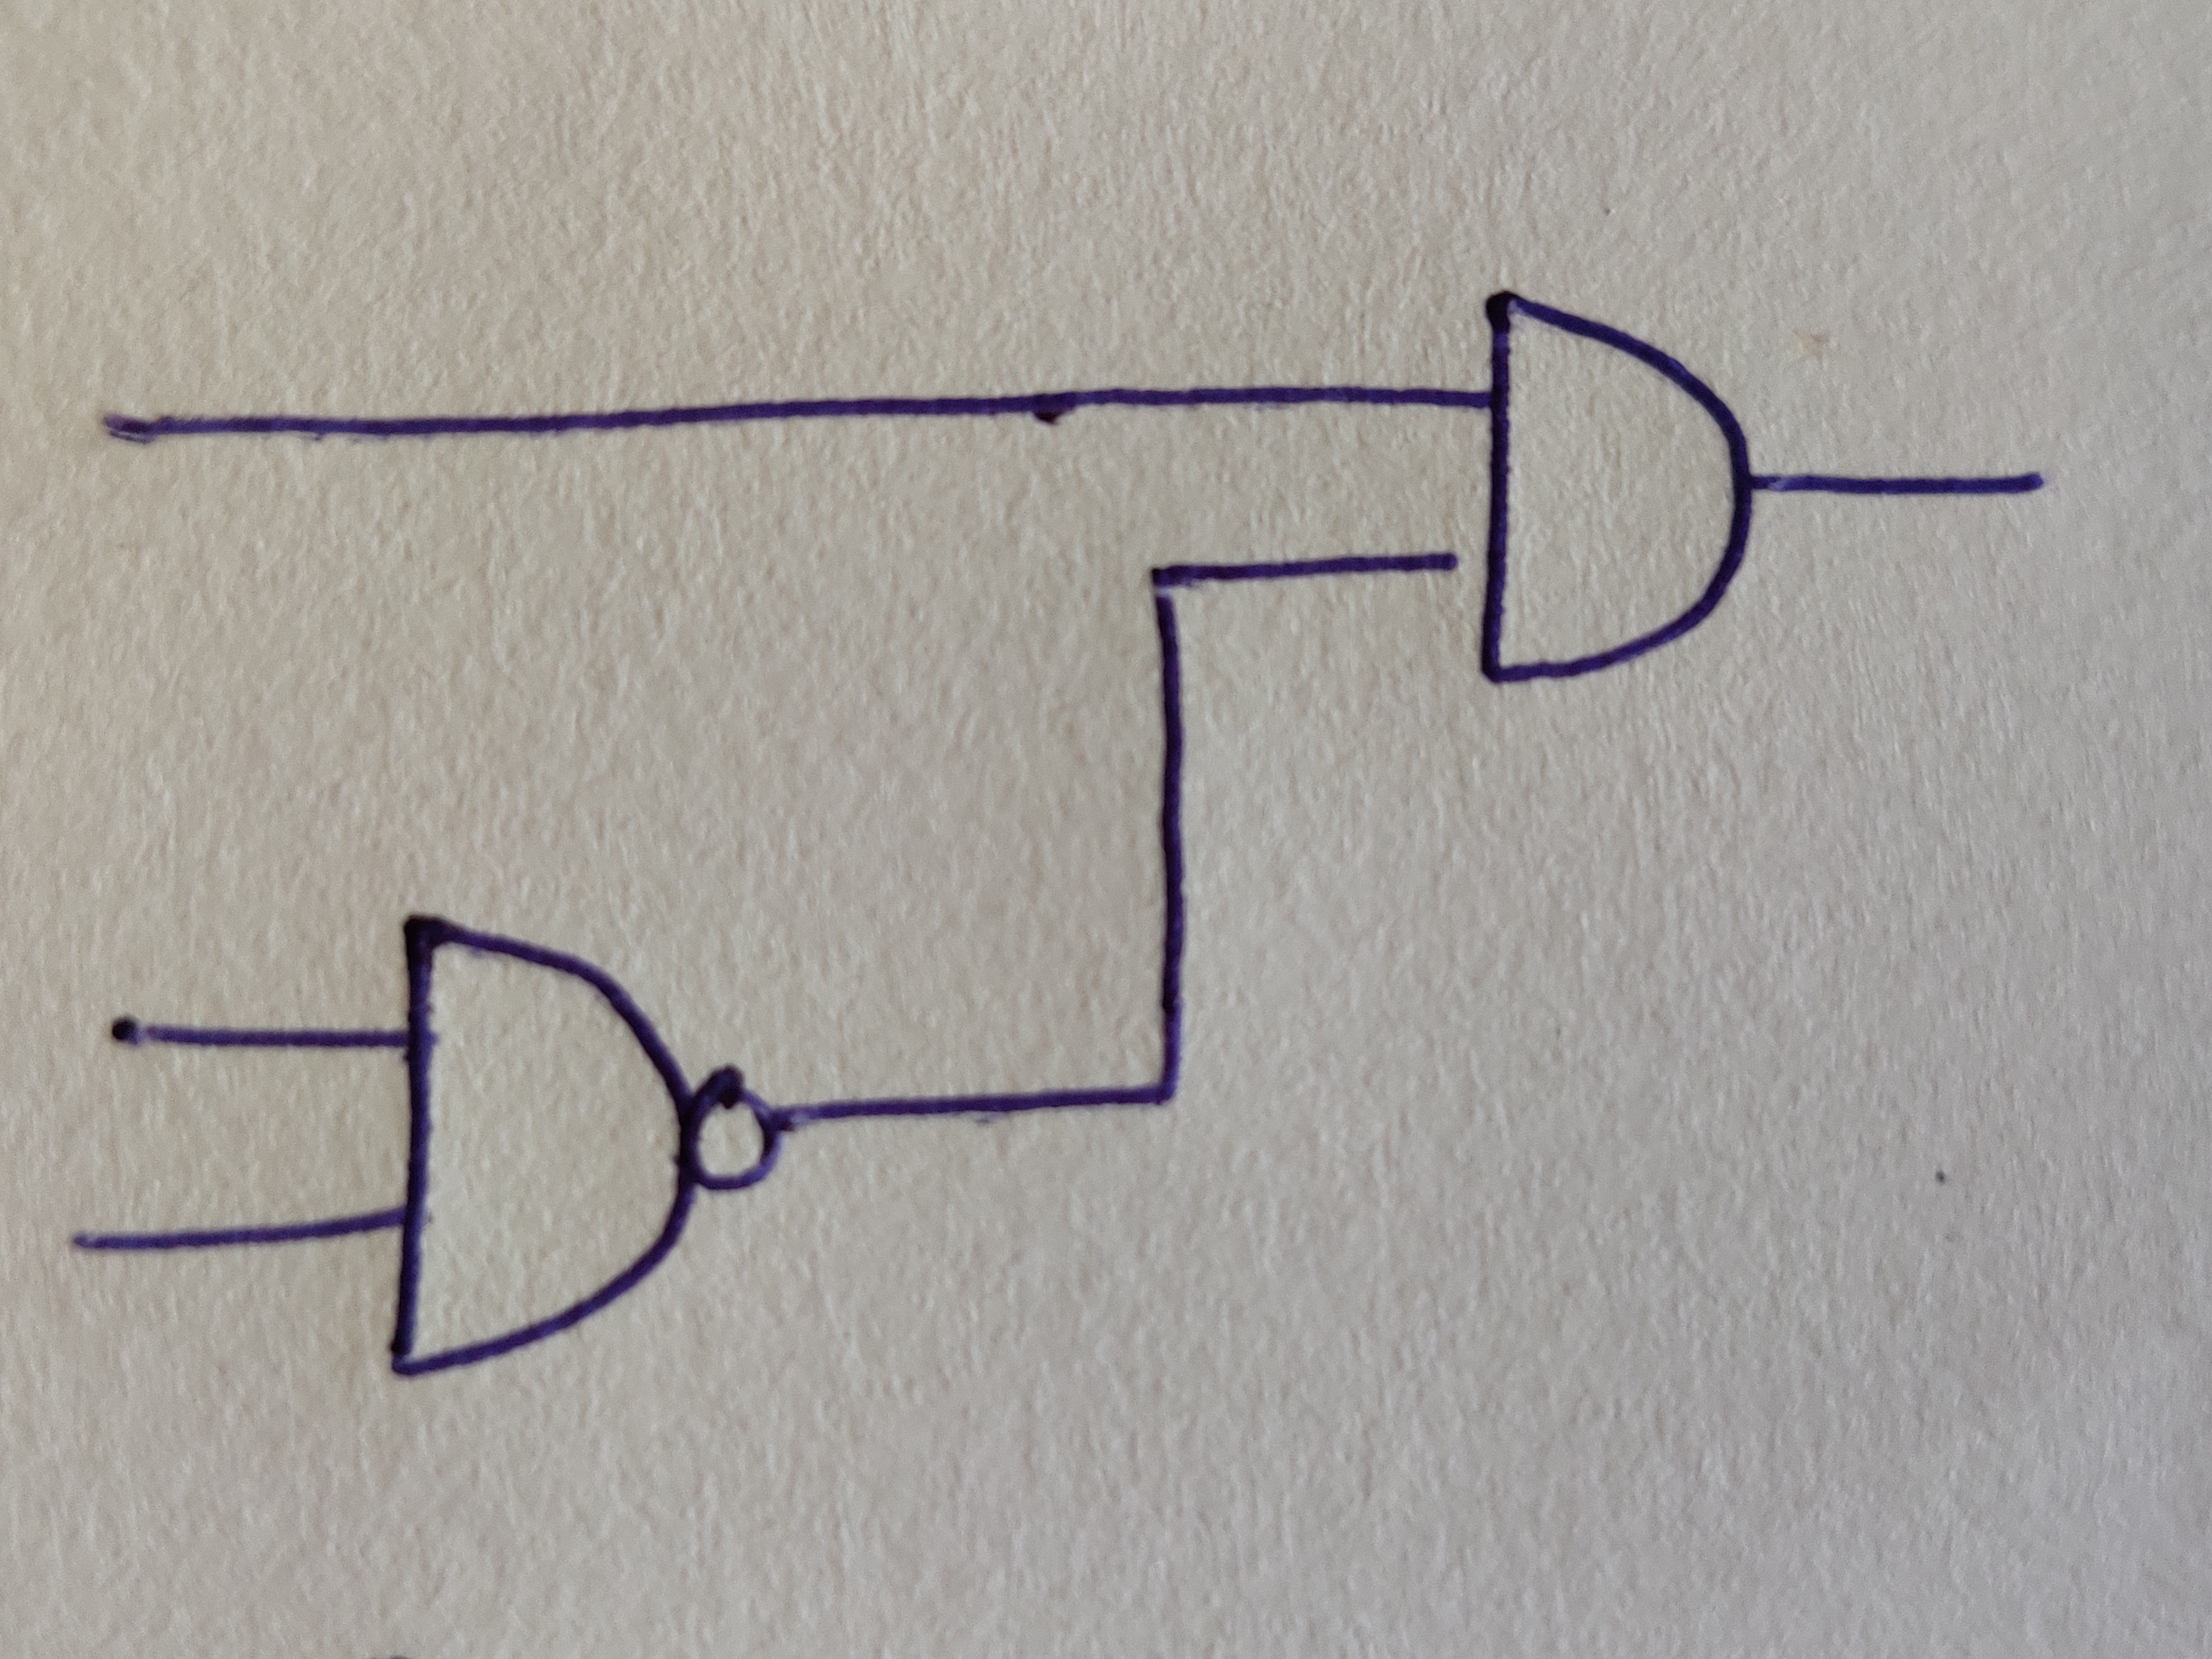and: (390, 917, 695, 1378), (1484, 291, 1752, 687)
not: (691, 1065, 784, 1190)
